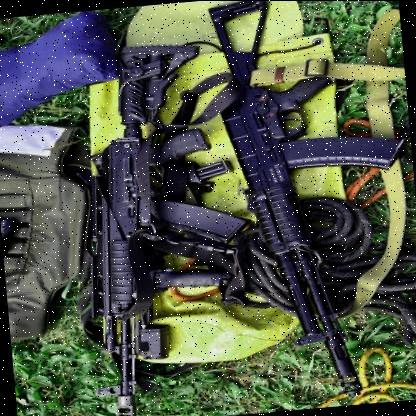rifle: (235, 0, 416, 411), (44, 39, 239, 416)
